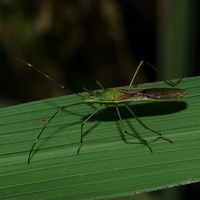insect: (27, 60, 186, 164), (117, 103, 156, 142), (131, 63, 171, 88)
